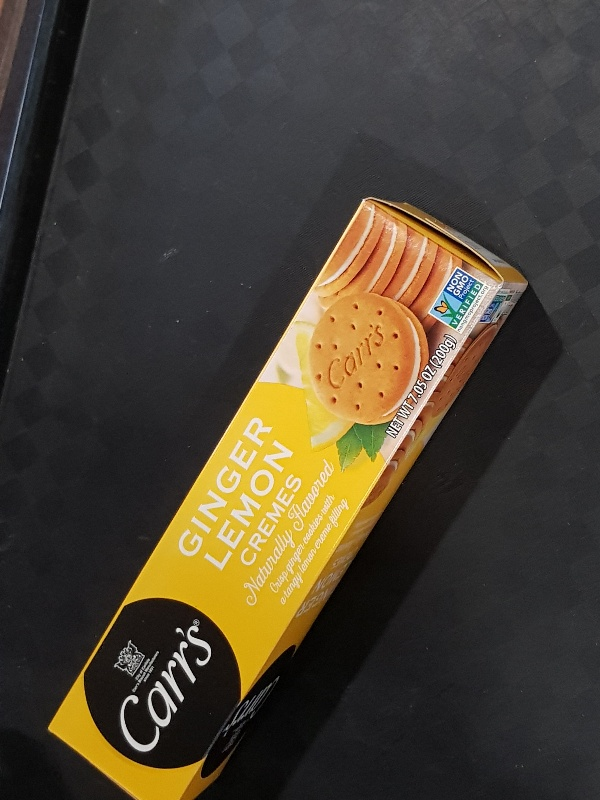Carr's Ginger Lemon Cremes: (45, 193, 531, 800)
